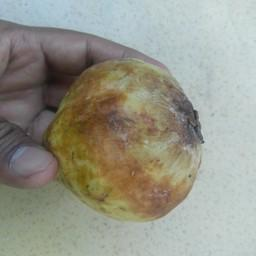Bad_guava: (47, 56, 203, 223)
